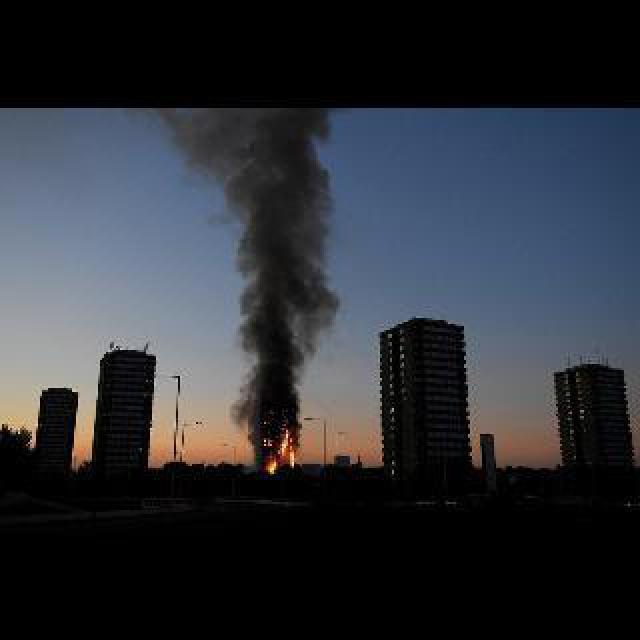Fire: (266, 426, 299, 478)
Smoke: (178, 112, 340, 420)
